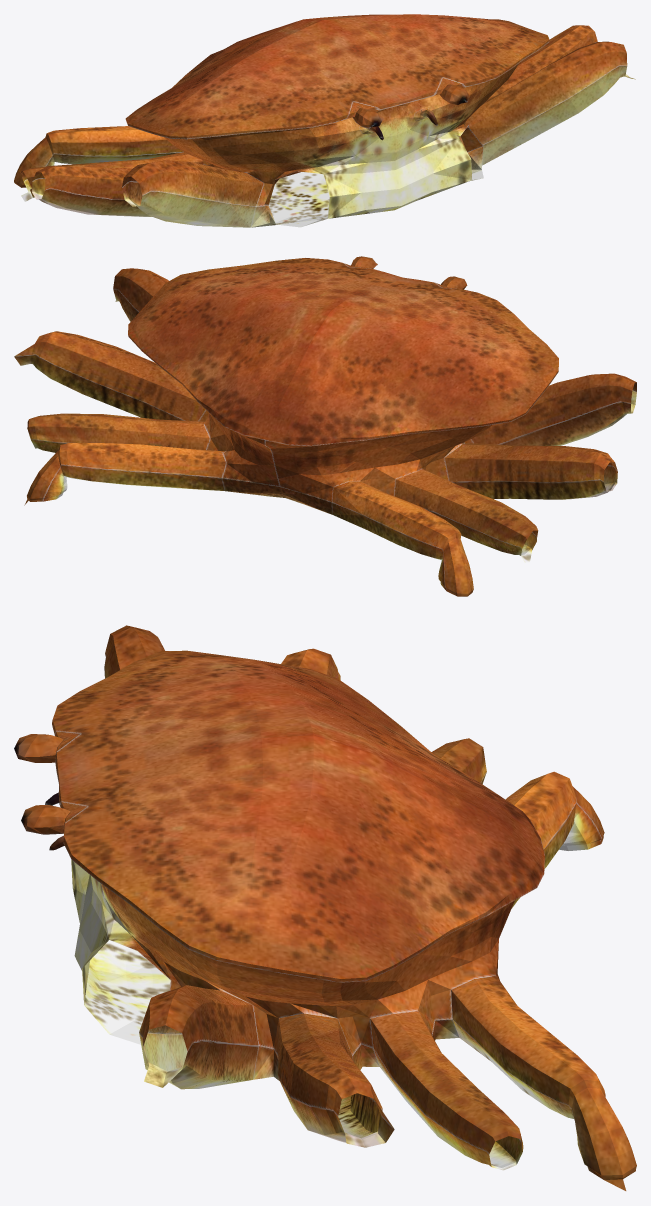
Rendered from CrabBody.obj.
3 views of the same model, one above another, from view 1: azimuth 30°, elevation 25°; view 2: azimuth 150°, elevation 25°; view 3: azimuth 270°, elevation 25° (orthographic). The views are drawn at different scales.
Parts seen in each view (by area): view 1: CrabBody1:polySurface40polySurface37polySurface34polySurface31po; view 2: CrabBody1:polySurface40polySurface37polySurface34polySurface31po; view 3: CrabBody1:polySurface40polySurface37polySurface34polySurface31po.
Boxes of the visible parts, x1=… form: CrabBody1:polySurface40polySurface37polySurface34polySurface31po: x1=14, y1=14, x2=635, y2=227; CrabBody1:polySurface40polySurface37polySurface34polySurface31po: x1=14, y1=256, x2=636, y2=596; CrabBody1:polySurface40polySurface37polySurface34polySurface31po: x1=14, y1=625, x2=636, y2=1190.
Bounding box in the file's own units: 1.71 × 0.5 × 0.9806.
Materials: 1 (1 with a texture image).
